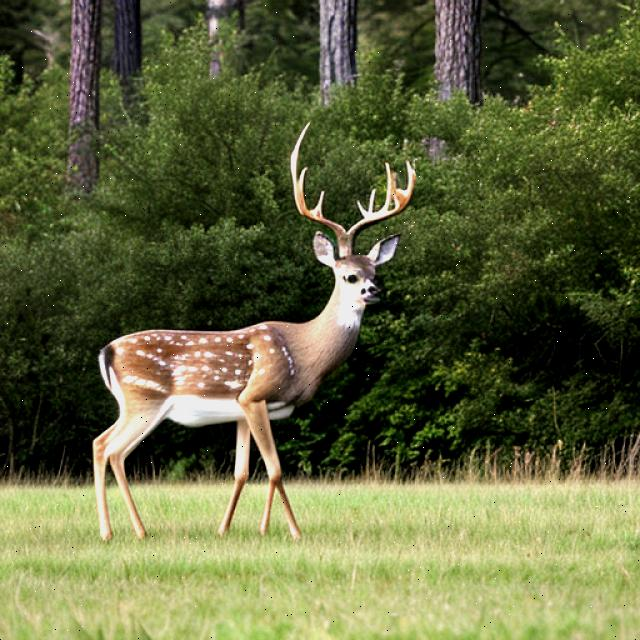deer: (74, 93, 432, 553)
